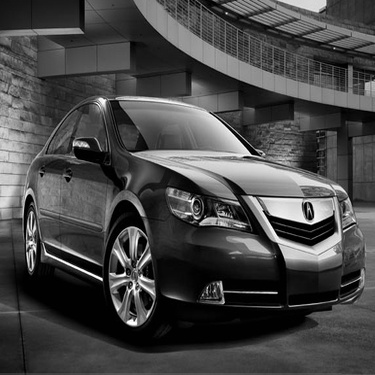car: (12, 78, 368, 347)
